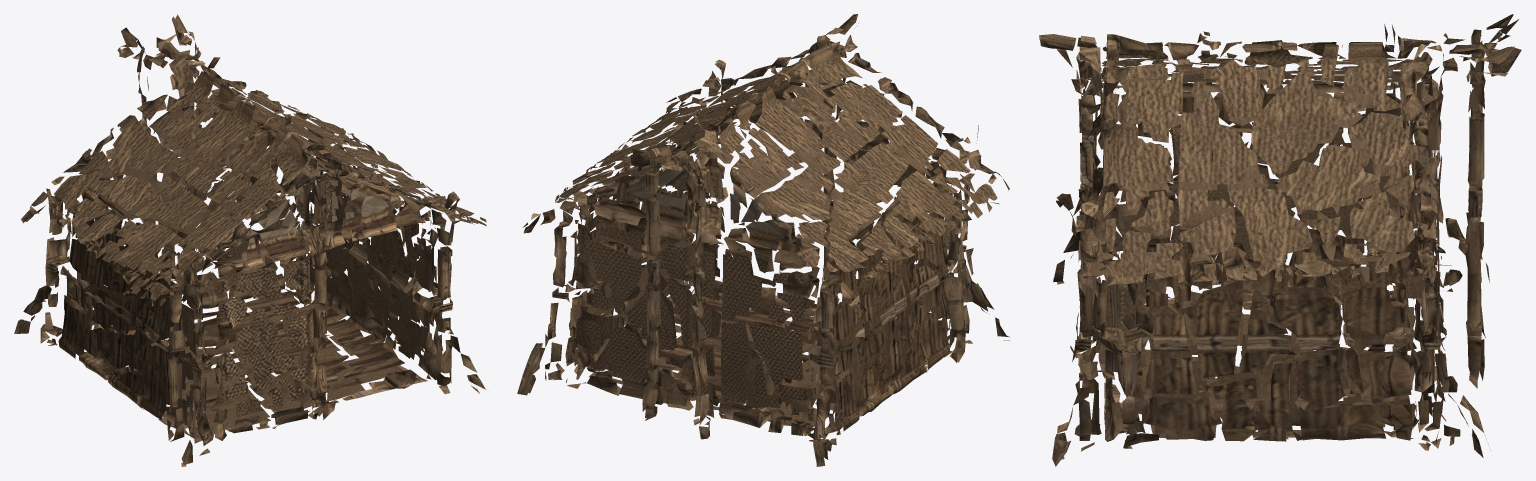
Rendered from bambushuette.glb.
3 views of the same model, side by side, from view 1: azimuth 30°, elevation 25°; view 2: azimuth 150°, elevation 25°; view 3: azimuth 270°, elevation 25° (orthographic). The views are drawn at different scales.
Bounding box in the file's own units: 1.84 × 1.48 × 1.87.
Materials: 1 (1 with a texture image).
